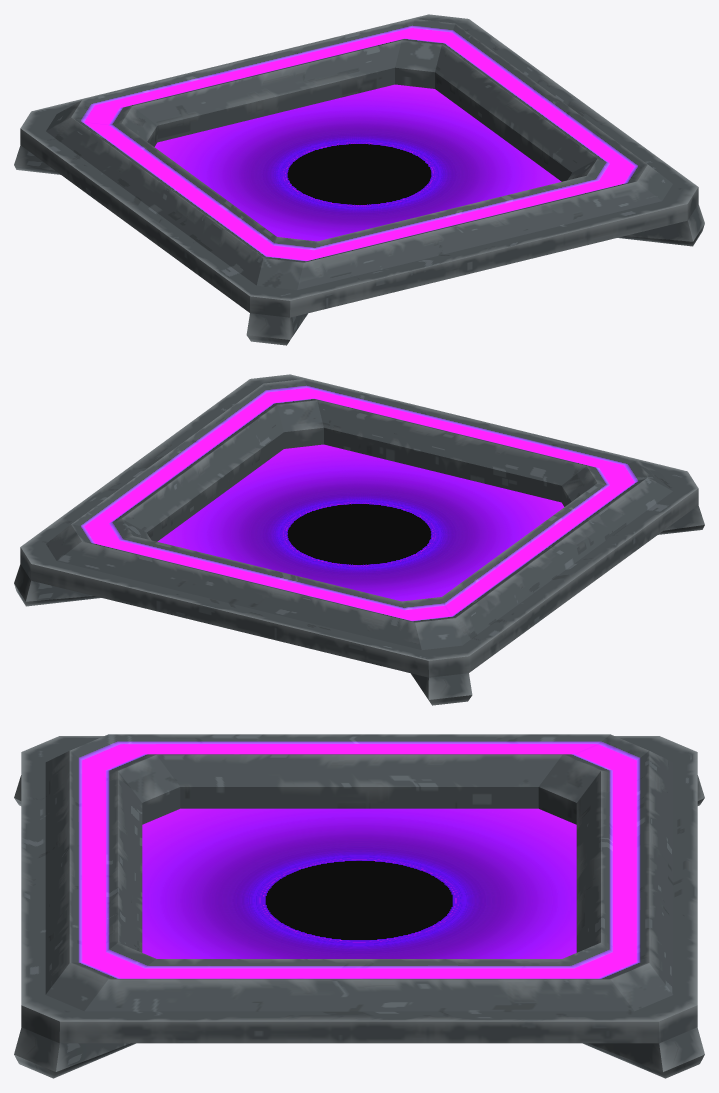
The model's file is JumpPad.fbx.
The picture shows the model from 3 angles, top to bottom: view 1: azimuth 30°, elevation 25°; view 2: azimuth 150°, elevation 25°; view 3: azimuth 270°, elevation 25°; orthographic projection. The views are drawn at different scales.
Parts seen in each view (by area): view 1: JumpPad; view 2: JumpPad; view 3: JumpPad.
Boxes of the visible parts, box(x1,y1,x2,y2) form: JumpPad: box(14, 14, 704, 345); JumpPad: box(14, 374, 704, 705); JumpPad: box(14, 734, 704, 1078).
Bounding box in the file's own units: 286 × 35.62 × 286.
